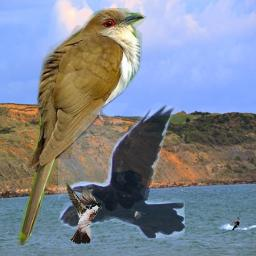Crow: (58, 103, 185, 238)
Cuckoo: (16, 8, 146, 248)
Swallow: (64, 180, 102, 244)
